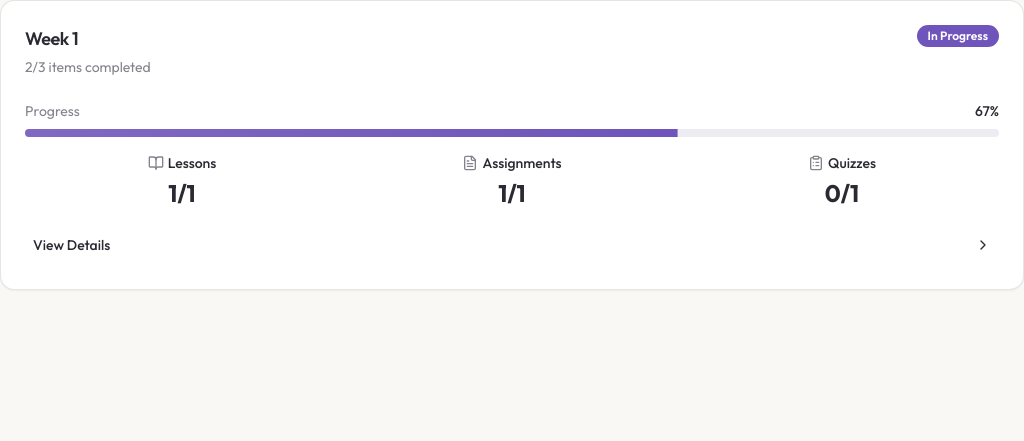
ModuleProgressCard (T-10 r2) › renders the details error state with retry when a details query fails
The image size is (1024, 441).
Click the button "View Details".
click(72, 245)  # box [25,225,999,265]
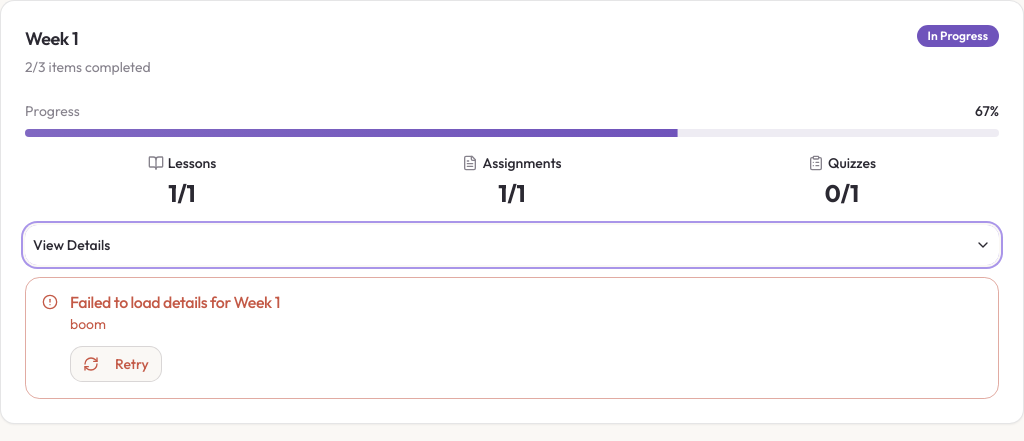
Expected: the text "2/3 items completed" is shown, [25,57,151,77]
Expected: the heading "Failed to load details for Week 1" is shown, [70,292,280,312]
